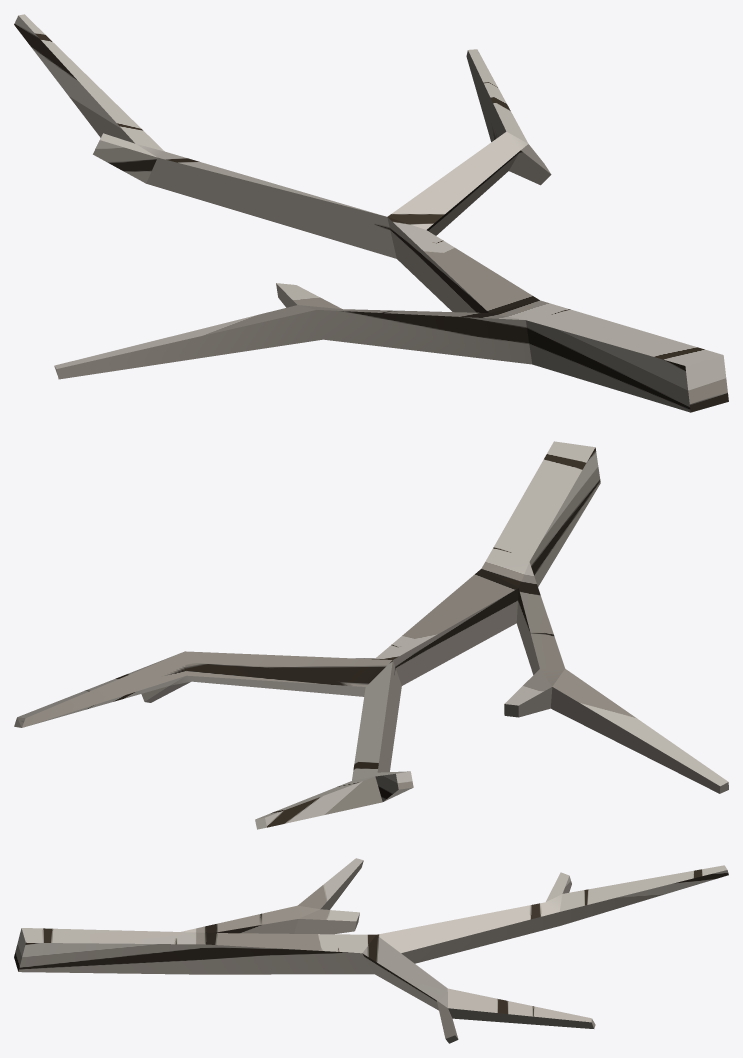
Rendered from synty-tree-twig-02.gltf.
3 views of the same model, one above another, from view 1: azimuth 30°, elevation 25°; view 2: azimuth 150°, elevation 25°; view 3: azimuth 270°, elevation 25° (orthographic). The views are drawn at different scales.
Visible parts, largest first — view 1: SM_Tree_Twig_02; view 2: SM_Tree_Twig_02; view 3: SM_Tree_Twig_02.
Part boxes in pixels (box(x1,y1,x2,y2)): SM_Tree_Twig_02: box(14, 14, 728, 412); SM_Tree_Twig_02: box(14, 441, 728, 829); SM_Tree_Twig_02: box(14, 858, 728, 1043).
Size of the model in its own units: 0.4464 by 0.0812 by 0.6768.
1 material, 1 textured.
